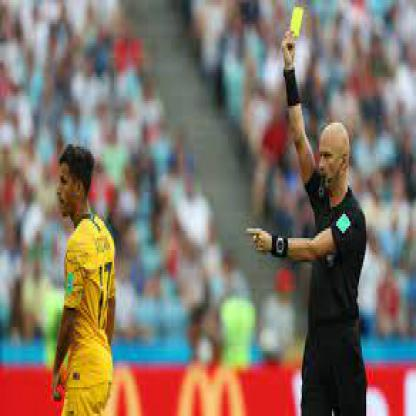foul: (267, 4, 319, 122)
